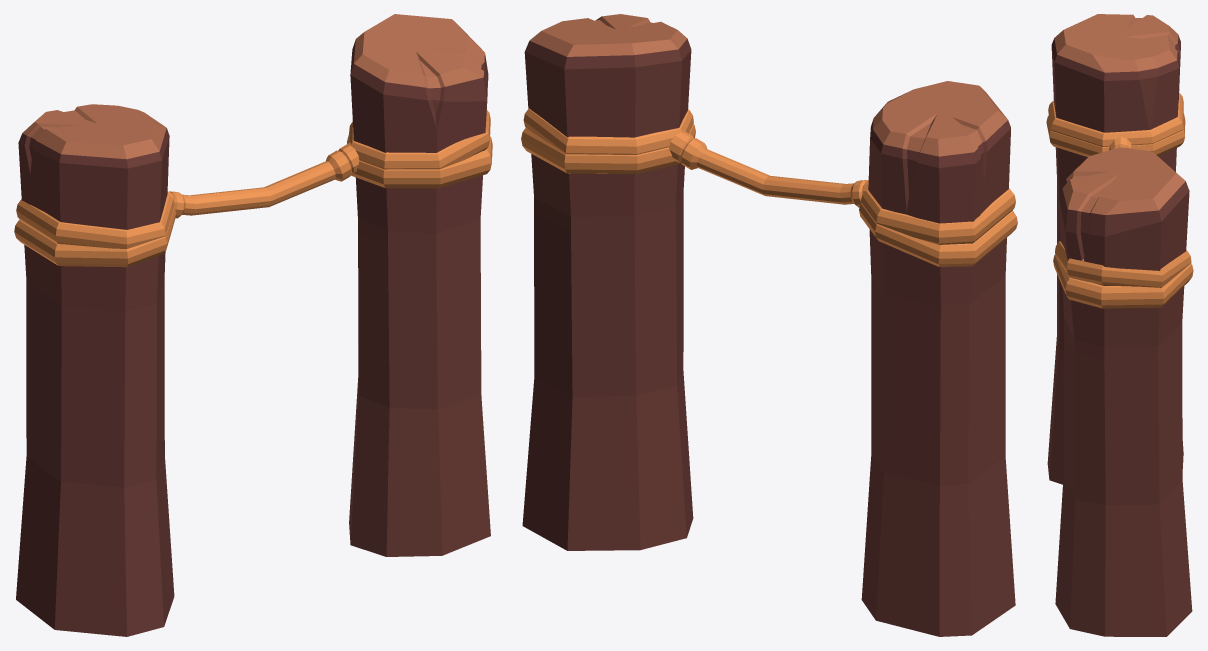
The model's file is Fence Wooden Blunt 08.fbx.
3 renders of one model, left to right at view 1: azimuth 30°, elevation 25°; view 2: azimuth 150°, elevation 25°; view 3: azimuth 270°, elevation 25°, orthographic. The views are drawn at different scales.
Parts seen in each view (by area): view 1: Fence Wooden Blunt 08; view 2: Fence Wooden Blunt 08; view 3: Fence Wooden Blunt 08.
Part boxes in pixels (box(x1,y1,x2,y2)): Fence Wooden Blunt 08: box(14, 14, 492, 636); Fence Wooden Blunt 08: box(521, 14, 1017, 636); Fence Wooden Blunt 08: box(1046, 14, 1193, 636).
Size of the model in its own units: 100 by 105 by 31.79.
